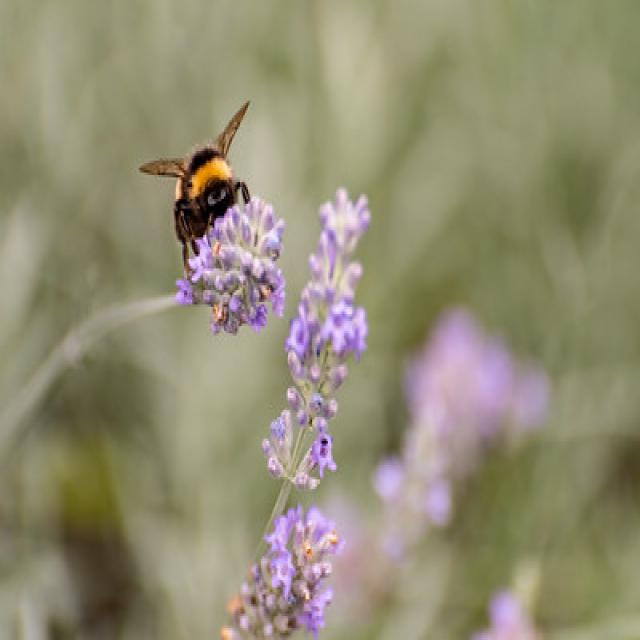Abeille: (136, 86, 270, 236)
